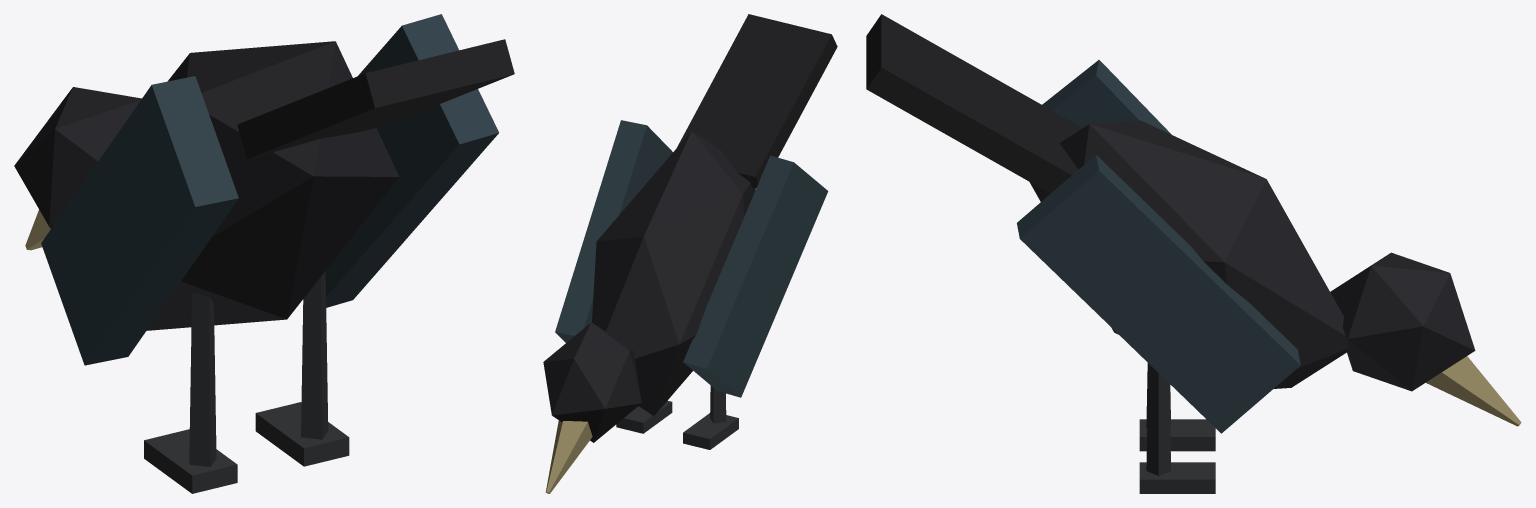
The model's file is crow_peck.glb.
The picture shows the model from 3 angles, left to right: view 1: azimuth 30°, elevation 25°; view 2: azimuth 150°, elevation 25°; view 3: azimuth 270°, elevation 25°; orthographic projection. The views are drawn at different scales.
Parts seen in each view (by area): view 1: crow_peck; view 2: crow_peck; view 3: crow_peck.
Boxes of the visible parts, x1,y1,x2,y2 form: crow_peck: (14, 14, 514, 493); crow_peck: (543, 14, 837, 493); crow_peck: (866, 14, 1521, 493).
Bounding box in the file's own units: 0.1742 × 0.295 × 0.414.
3 materials, 3 textured.
